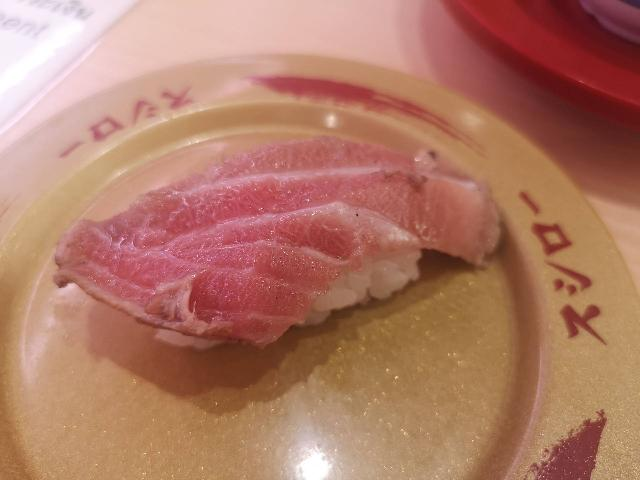jangold: (5, 84, 640, 480)
janred: (462, 0, 640, 111)
